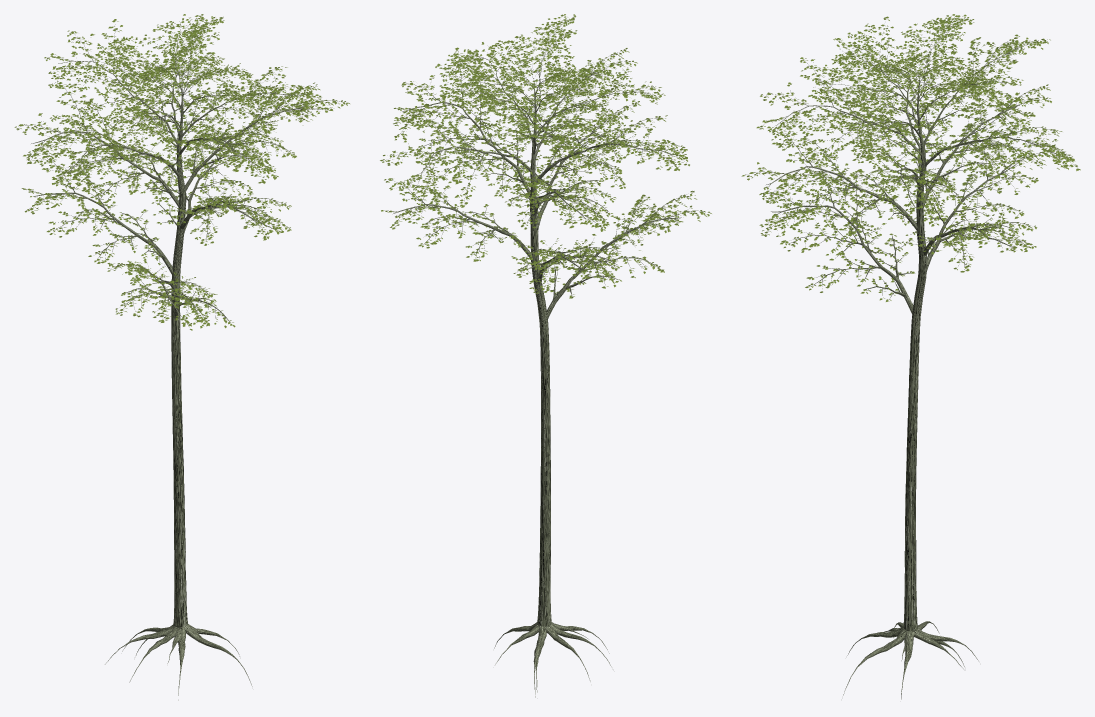
3 renders of one model, left to right at view 1: azimuth 30°, elevation 25°; view 2: azimuth 150°, elevation 25°; view 3: azimuth 270°, elevation 25°, orthographic. The views are drawn at different scales.
Visible parts, largest first — view 1: Beech_Large_02.Shape; view 2: Beech_Large_02.Shape; view 3: Beech_Large_02.Shape.
Part boxes in pixels (x1,y1,x2,y2): Beech_Large_02.Shape: (14,14,349,700); Beech_Large_02.Shape: (380,14,711,697); Beech_Large_02.Shape: (741,14,1080,699).
Size of the model in its own units: 7.25 by 14.87 by 7.03.
Materials: 2 (2 with a texture image).
